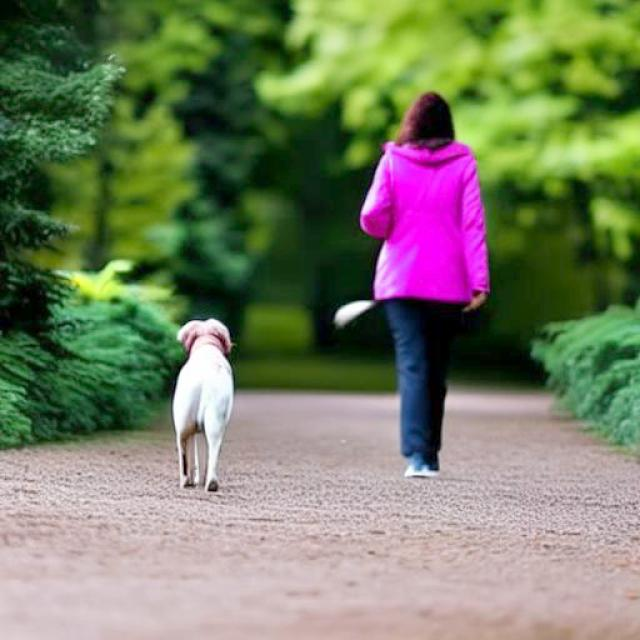Unleashed_Dog: (172, 250, 467, 492)
